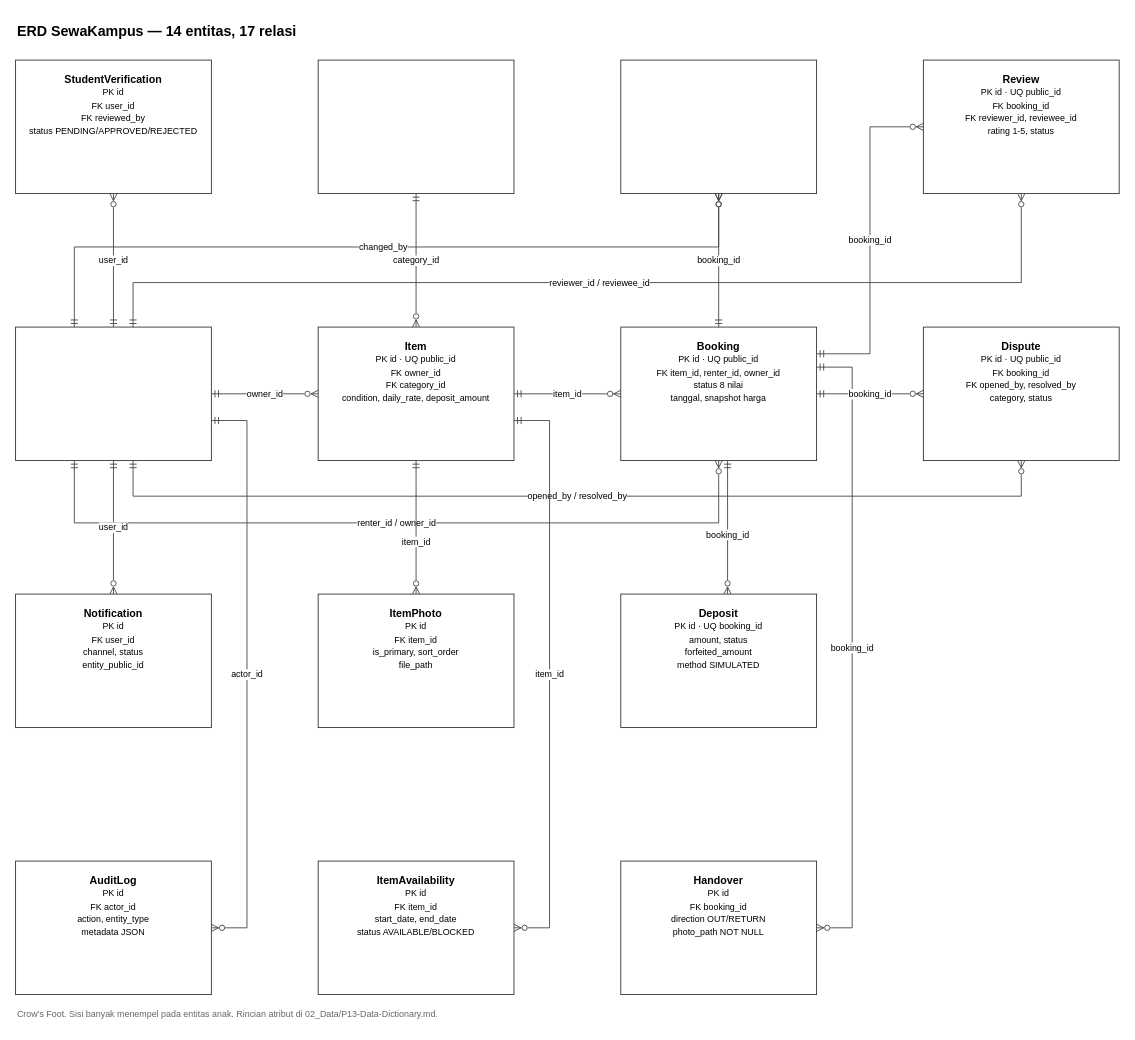
Some shapes in this 1135 by 1040 pixel diagram are drawn without their labels. The shapes that lost their labels are listed below. From the top down, each one's centre as x and y in pixels, then its label:
At [415,126]: "ItemCategory PK id · UQ public_id UQ slug, name is_active, sort_order".
At [718,126]: "BookingStatusHistory PK id FK booking_id FK changed_by from_status, to_status".
At [113,393]: "User PK id · UQ public_id email, role account_status full_name".
